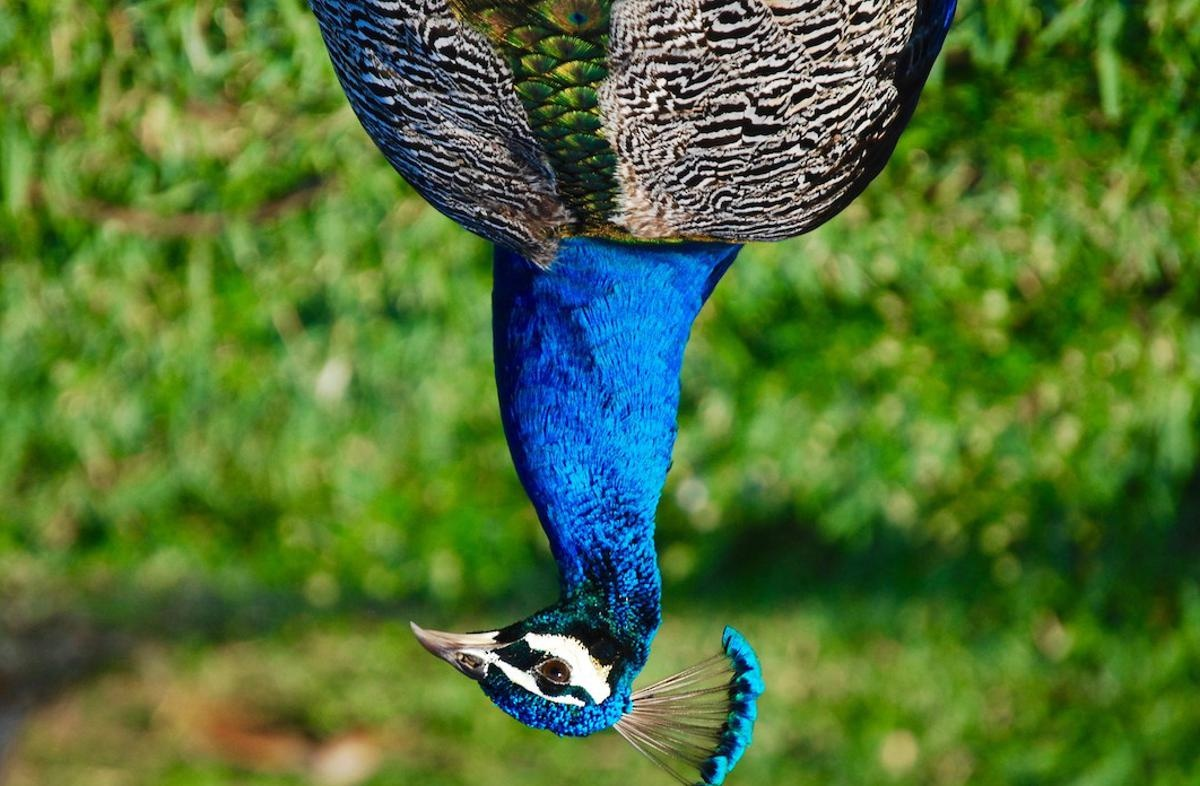peacock: (297, 1, 885, 781)
